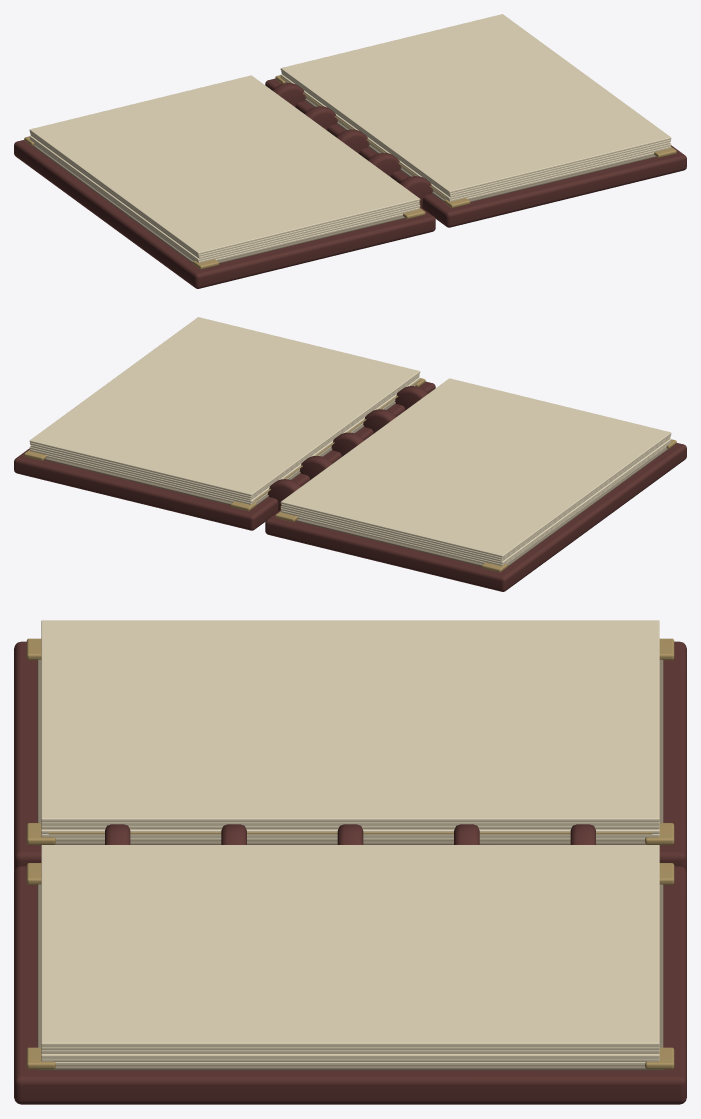
File: chapter-ii-0eccdbdba13a.glb
3 renders of one model, top to bottom at view 1: azimuth 30°, elevation 25°; view 2: azimuth 150°, elevation 25°; view 3: azimuth 270°, elevation 25°, orthographic. The views are drawn at different scales.
Visible parts, largest first — view 1: Deckled photo sheet, Leather board, Linen inset, Brass corner; view 2: Deckled photo sheet, Leather board, Linen inset, Brass corner; view 3: Deckled photo sheet, Leather board, Linen inset, Brass corner.
Boxes of the visible parts, box(x1,y1,x2,y2) form: Deckled photo sheet: box(29, 14, 671, 262); Leather board: box(14, 78, 686, 288); Linen inset: box(32, 98, 656, 263); Brass corner: box(24, 75, 676, 269); Deckled photo sheet: box(29, 317, 671, 565); Leather board: box(14, 381, 686, 591); Linen inset: box(44, 401, 668, 566); Brass corner: box(24, 378, 676, 572); Deckled photo sheet: box(41, 620, 659, 1065); Leather board: box(14, 641, 686, 1104); Linen inset: box(37, 659, 663, 1070); Brass corner: box(26, 638, 674, 1069).
Size of the model in its own units: 2.86 by 0.22 by 1.85.
